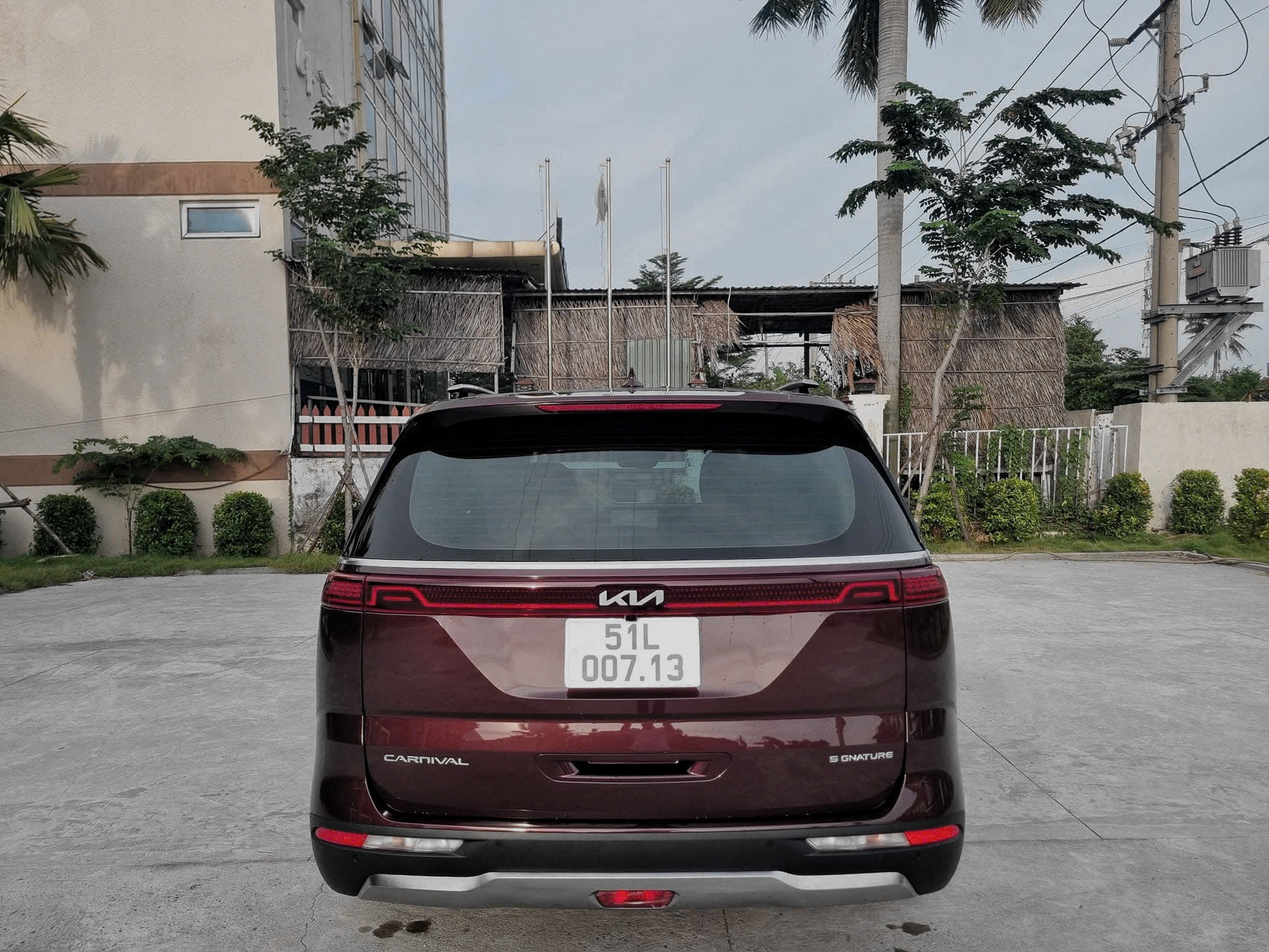Bien-so: (574, 597, 724, 685)
